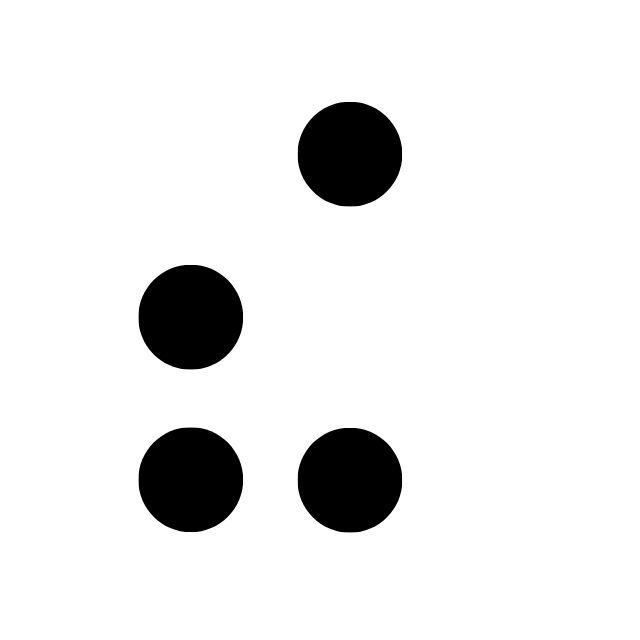ang: (138, 101, 402, 534)
